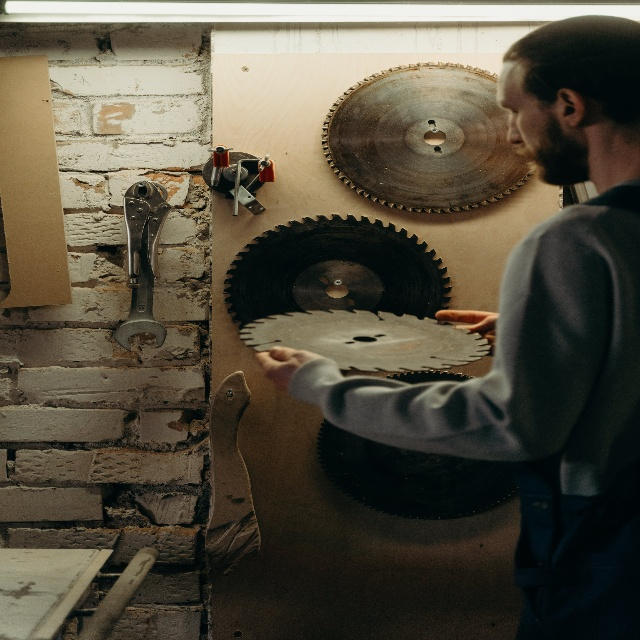Sin_guantes: (255, 346, 323, 393), (435, 309, 499, 357)
